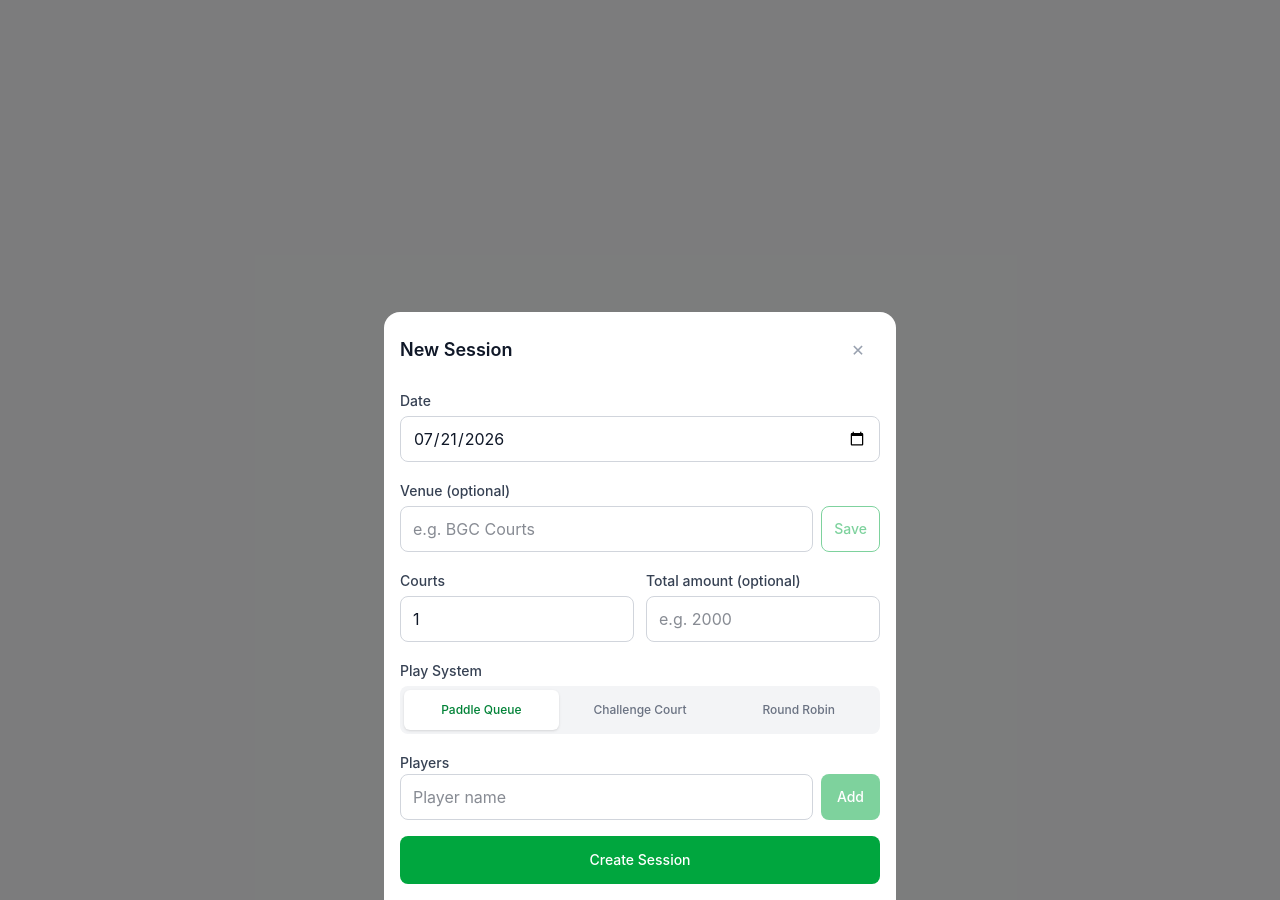
Test case: SessionModal › strips negatives and extra dots from amount
Type "-12.5.5" into the field labelled "Total amount" at {"x": 763, "y": 619}, box [646,596,880,642]
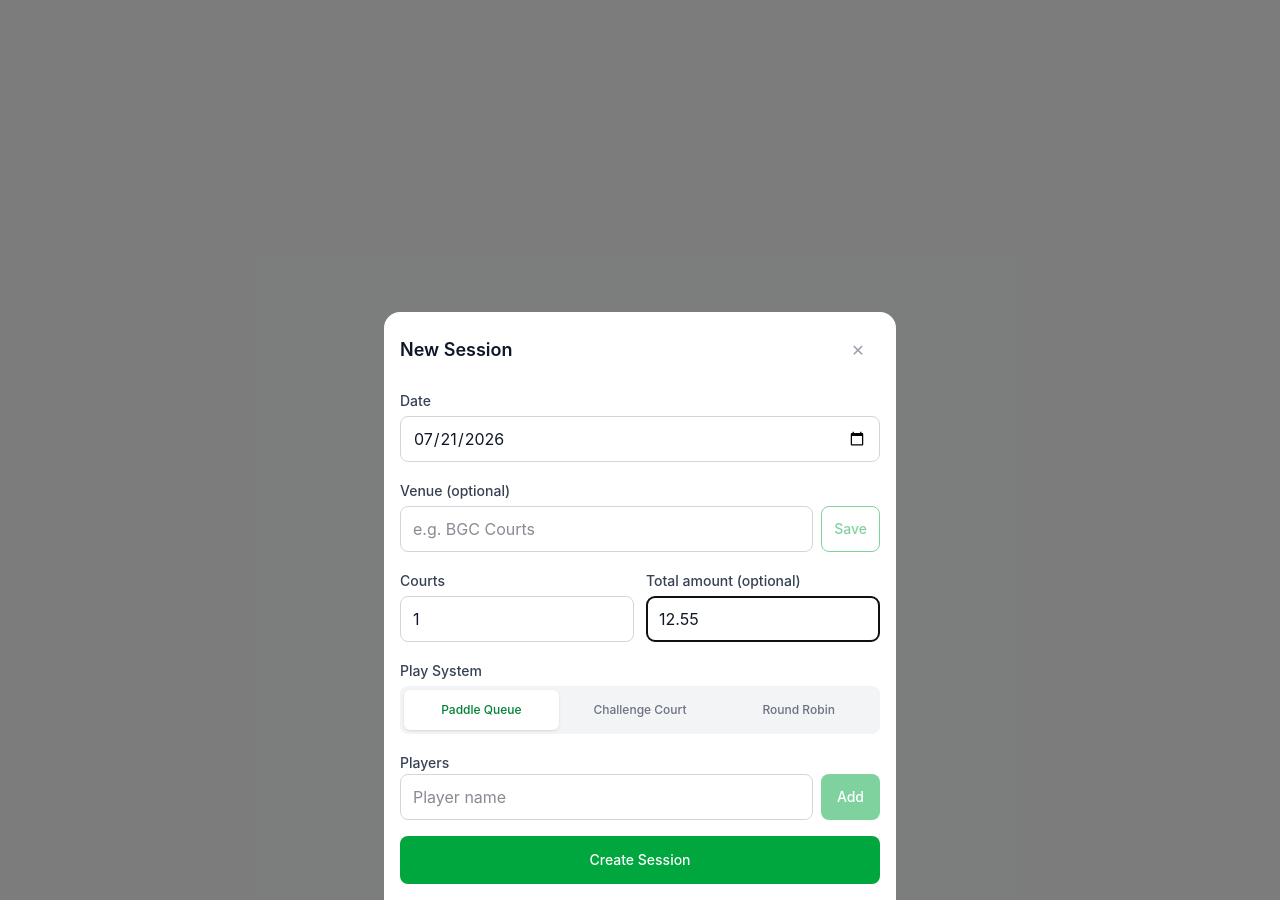
Now the field labelled "Total amount" holds "12.55", box [646,596,880,642]
